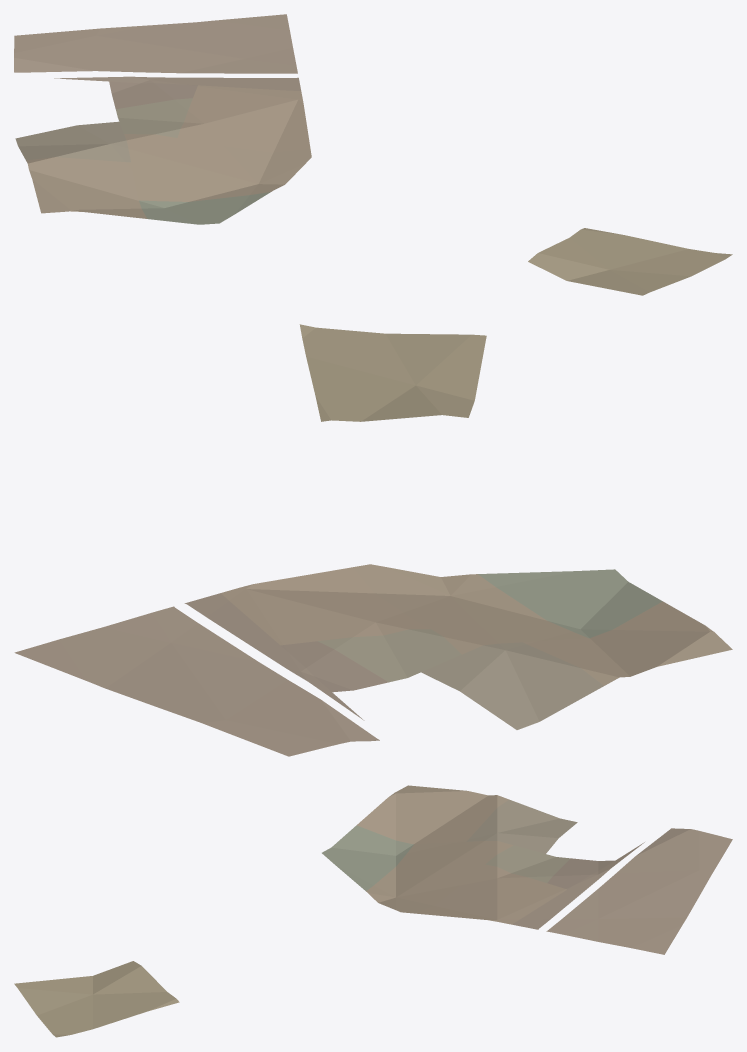
Rendered from farm_10_15_soil.glb.
3 views of the same model, one above another, from view 1: azimuth 30°, elevation 25°; view 2: azimuth 150°, elevation 25°; view 3: azimuth 270°, elevation 25° (orthographic). The views are drawn at different scales.
Parts seen in each view (by area): view 1: geometry_0; view 2: geometry_0; view 3: geometry_0.
Part boxes in pixels (left/top/right/bottom): geometry_0: left=14, top=14, right=732, bottom=295; geometry_0: left=14, top=324, right=732, bottom=756; geometry_0: left=14, top=785, right=732, bottom=1037.
Bounding box in the file's own units: 428 × 36.53 × 569.
